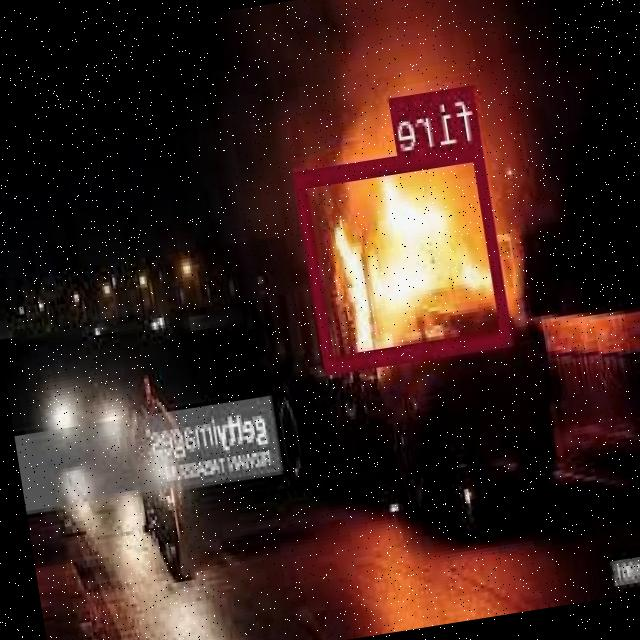fire: (296, 142, 514, 370)
